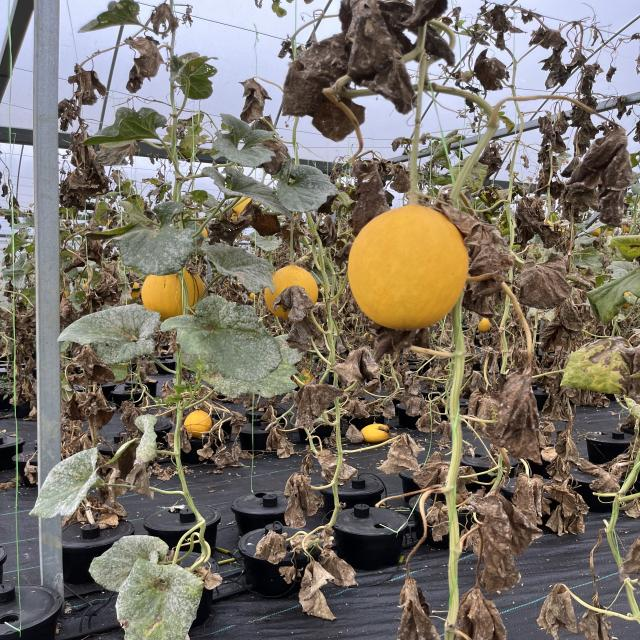CMV: (205, 167, 286, 210)
alternaria leaf blight: (206, 115, 283, 171), (561, 342, 640, 394)
bacterial wilt: (468, 487, 542, 593), (271, 26, 357, 114), (562, 128, 640, 198), (514, 245, 581, 310), (114, 35, 165, 93), (533, 582, 584, 638), (461, 574, 504, 640), (373, 437, 435, 481), (278, 468, 322, 528), (299, 560, 338, 625), (336, 342, 390, 386), (289, 380, 340, 424), (398, 580, 434, 640), (234, 74, 276, 124), (278, 281, 320, 328), (67, 66, 113, 108), (554, 288, 596, 329), (474, 47, 513, 90), (85, 268, 129, 304), (319, 553, 360, 587)
powdery mildew: (159, 294, 283, 381), (105, 200, 202, 284), (24, 438, 119, 516), (113, 562, 202, 640), (61, 304, 160, 366), (85, 536, 179, 589), (194, 243, 286, 297), (271, 156, 337, 212), (127, 412, 159, 478)
